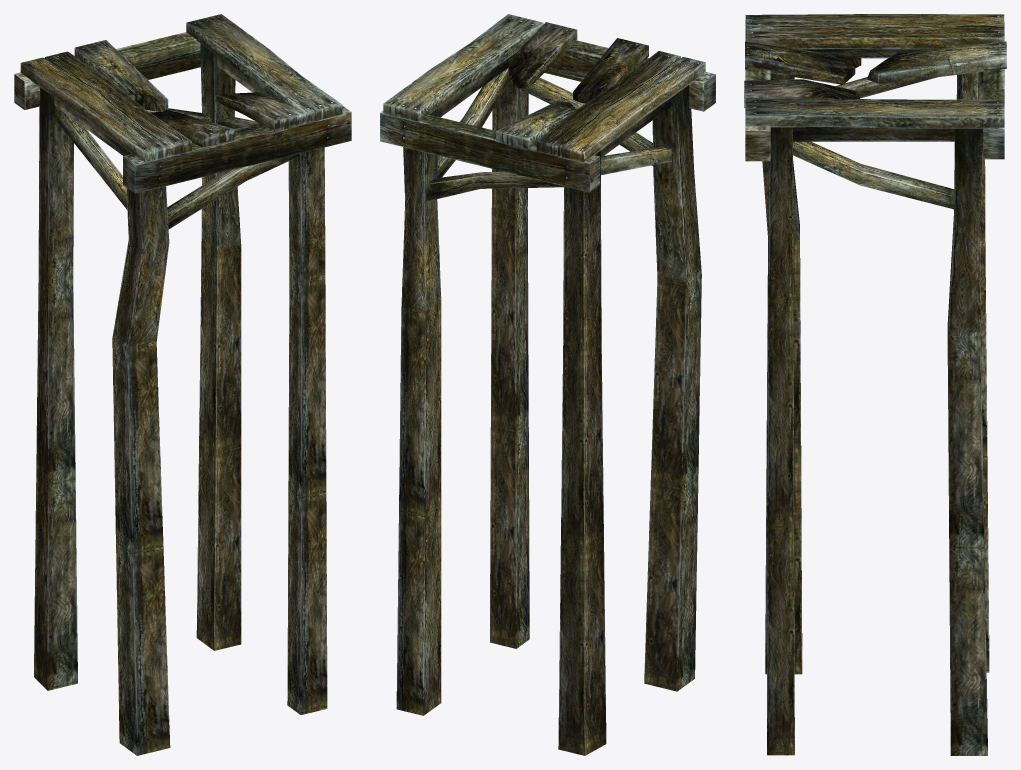
The model's file is most_12.glb.
3 renders of one model, left to right at view 1: azimuth 30°, elevation 25°; view 2: azimuth 150°, elevation 25°; view 3: azimuth 270°, elevation 25°, orthographic. The views are drawn at different scales.
Visible parts, largest first — view 1: most_12-col; view 2: most_12-col; view 3: most_12-col.
Boxes of the visible parts, x1,y1,x2,y2 form: most_12-col: (14,14,351,755); most_12-col: (380,14,715,755); most_12-col: (744,14,1006,755).
Size of the model in its own units: 4.46 by 12.06 by 4.46.
4 materials, 4 textured.
